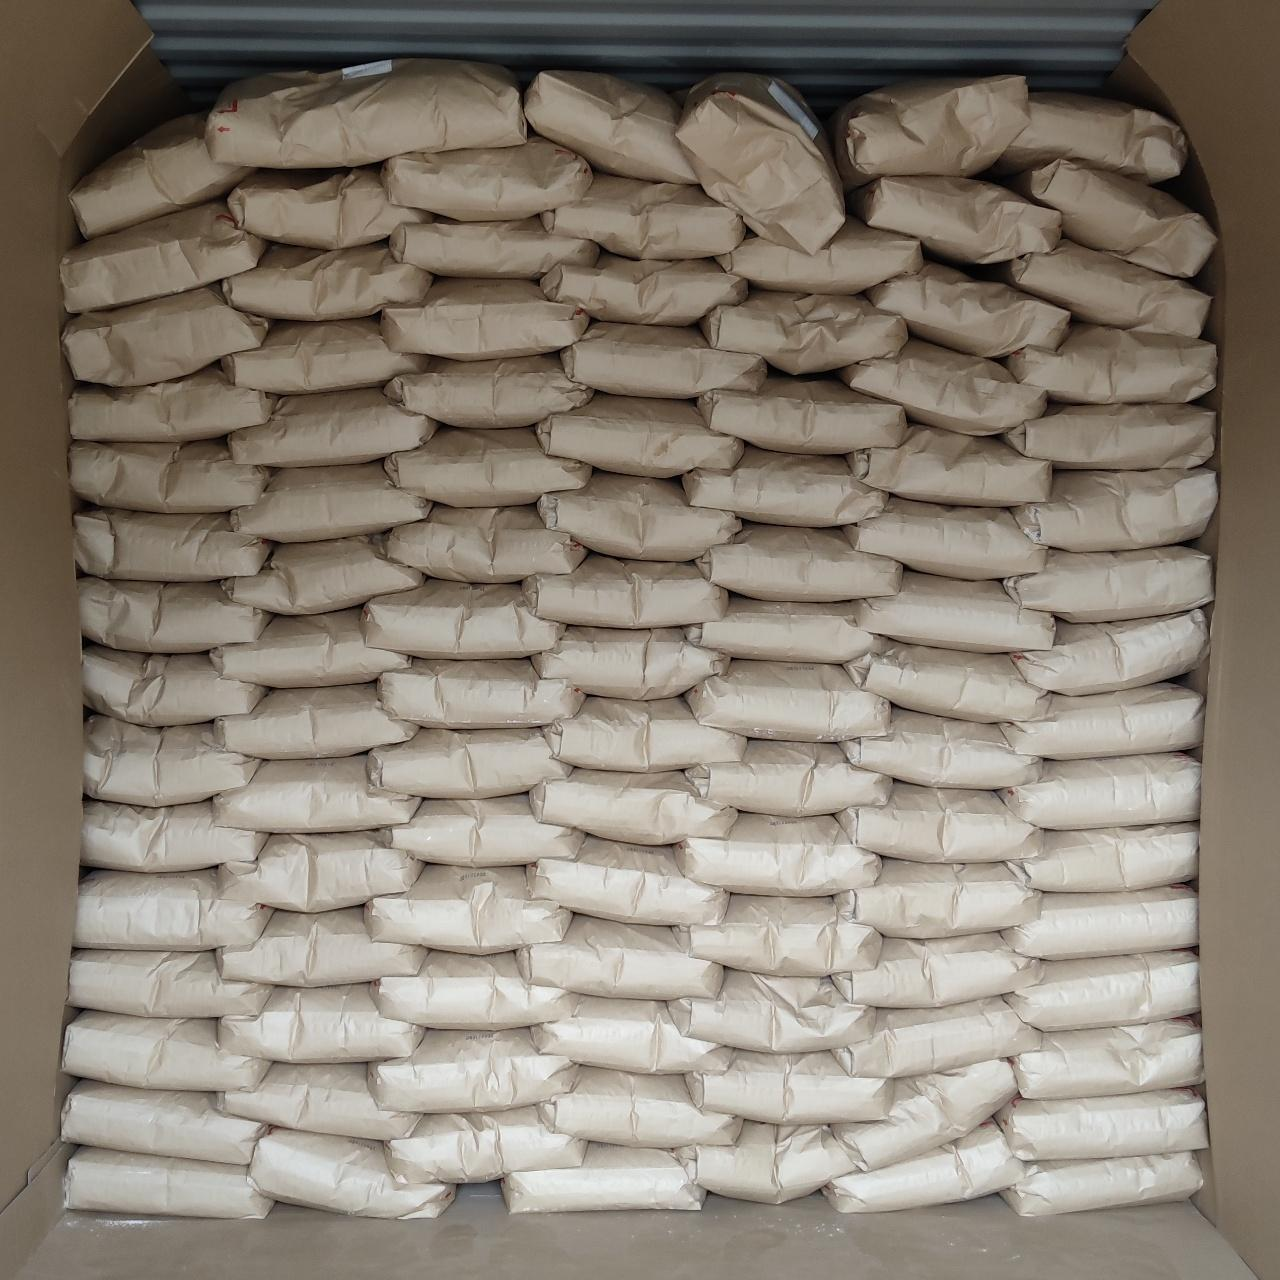sack: (207, 60, 526, 166), (678, 74, 842, 248), (1006, 159, 1214, 275), (62, 200, 268, 309), (70, 113, 252, 236), (830, 76, 1028, 182), (64, 284, 268, 382), (1000, 240, 1208, 336), (840, 338, 1046, 433), (835, 1060, 1014, 1166), (526, 72, 696, 182), (869, 263, 1068, 356), (826, 1122, 1022, 1212), (852, 178, 1060, 263), (252, 1128, 454, 1214), (527, 836, 726, 924), (64, 1080, 268, 1164), (538, 472, 738, 558), (366, 866, 570, 949), (996, 91, 1186, 181), (538, 394, 742, 476), (702, 290, 906, 372), (538, 1065, 740, 1148), (518, 915, 720, 998), (1014, 468, 1214, 550), (368, 1030, 574, 1110), (676, 813, 878, 894), (542, 173, 742, 254), (670, 971, 870, 1051), (382, 280, 588, 358), (836, 998, 1039, 1076), (384, 138, 590, 216), (685, 448, 886, 526), (220, 983, 422, 1062), (676, 896, 878, 974), (688, 660, 886, 740), (1014, 612, 1206, 694), (697, 376, 904, 452), (230, 388, 436, 464), (842, 708, 1039, 788), (1006, 324, 1214, 399), (856, 572, 1054, 651), (64, 1012, 268, 1088), (230, 166, 424, 246), (850, 424, 1050, 502), (222, 832, 422, 910), (561, 322, 764, 399), (76, 870, 270, 949), (232, 462, 428, 540), (844, 498, 1046, 574), (838, 784, 1039, 860), (374, 952, 574, 1028), (224, 244, 430, 318), (846, 642, 1046, 719), (70, 365, 275, 438), (224, 536, 422, 612), (1006, 546, 1210, 620), (530, 770, 734, 844), (686, 740, 890, 813), (697, 524, 900, 598), (386, 428, 588, 502), (836, 860, 1039, 934), (86, 716, 256, 804), (1008, 952, 1198, 1030), (220, 318, 425, 390), (220, 908, 422, 982), (218, 1064, 420, 1138), (719, 218, 920, 292), (216, 756, 416, 830), (212, 610, 406, 686), (1014, 1017, 1201, 1096), (1002, 685, 1201, 758), (1000, 754, 1198, 828), (216, 685, 414, 758), (686, 1050, 890, 1122), (835, 934, 1039, 1006), (386, 354, 590, 425), (386, 506, 583, 580), (365, 580, 561, 654), (535, 996, 730, 1070), (678, 1122, 858, 1201), (388, 1108, 583, 1182), (546, 697, 742, 770), (542, 254, 745, 324), (84, 646, 264, 724), (76, 508, 270, 580), (1000, 1090, 1206, 1158), (64, 1148, 270, 1216), (380, 658, 583, 726), (80, 578, 268, 651), (524, 554, 726, 622), (1005, 886, 1196, 958), (368, 728, 566, 796), (384, 796, 583, 864), (72, 442, 268, 510), (1005, 404, 1214, 468), (535, 628, 726, 697), (504, 1144, 702, 1210), (688, 595, 881, 662), (70, 949, 270, 1014), (84, 799, 264, 870), (1008, 824, 1198, 890), (390, 218, 598, 278), (1002, 1152, 1201, 1214)
